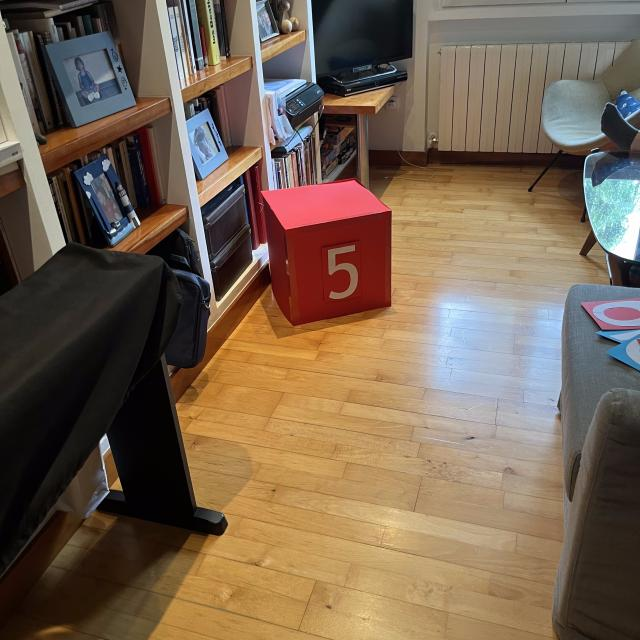box: (257, 175, 395, 328)
